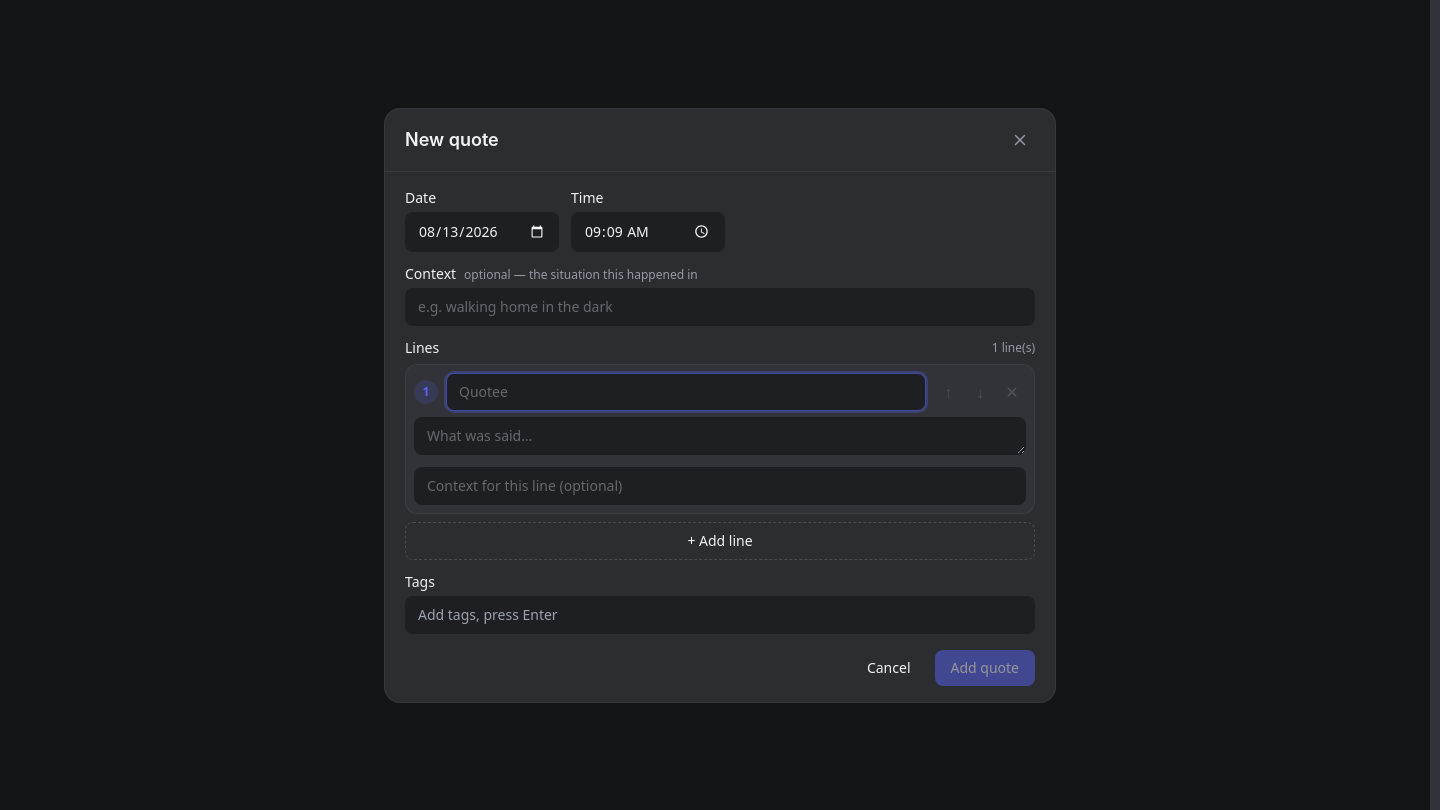
Test case: QuoteModal › surfaces a save failure instead of closing
Type "Jake" into the field with placeholder "Quotee".
click(686, 392); type("Jake")  # box [446, 372, 926, 410]
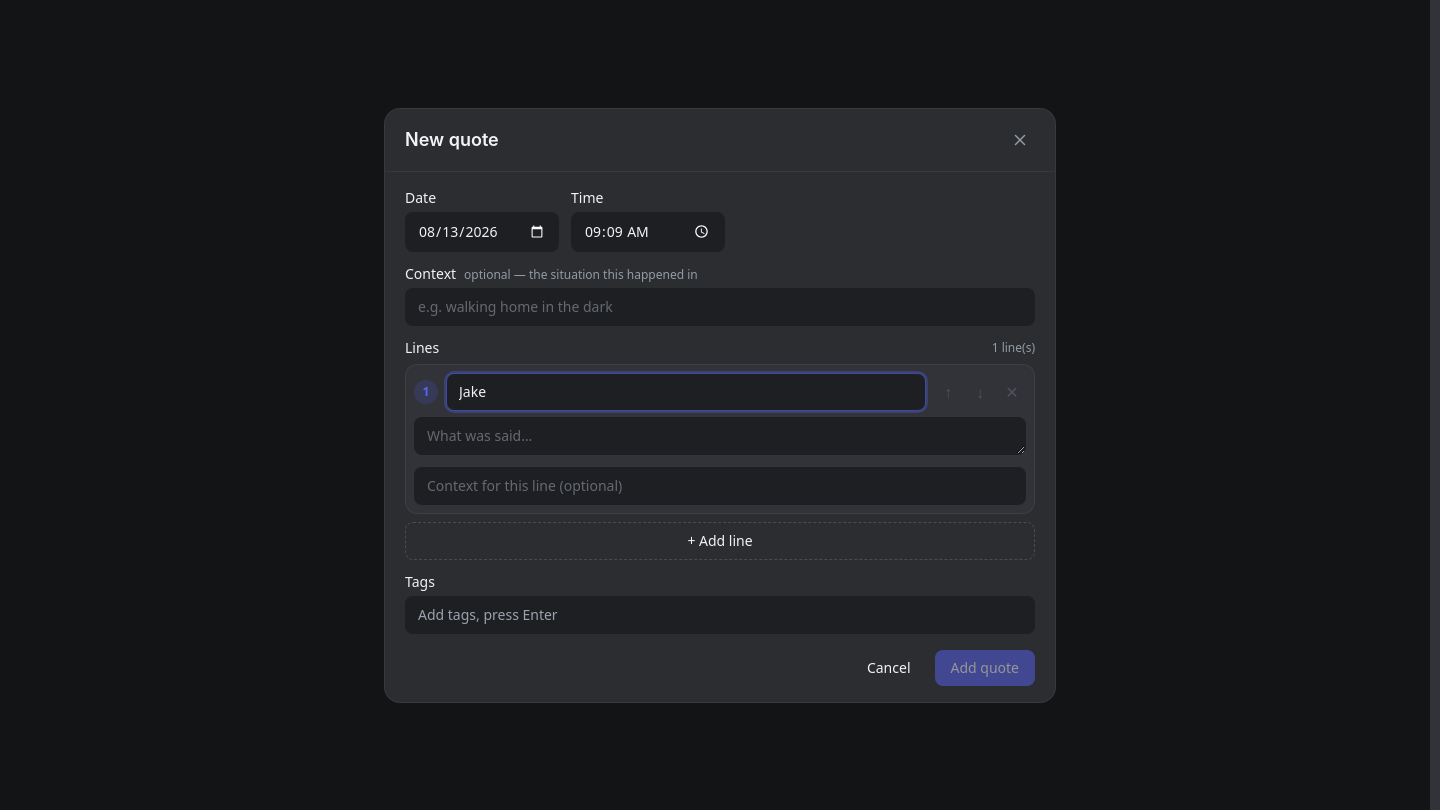
Type "milk a cow" into the text box with placeholder "What was said…".
click(720, 436); type("milk a cow")  # box [414, 416, 1026, 454]
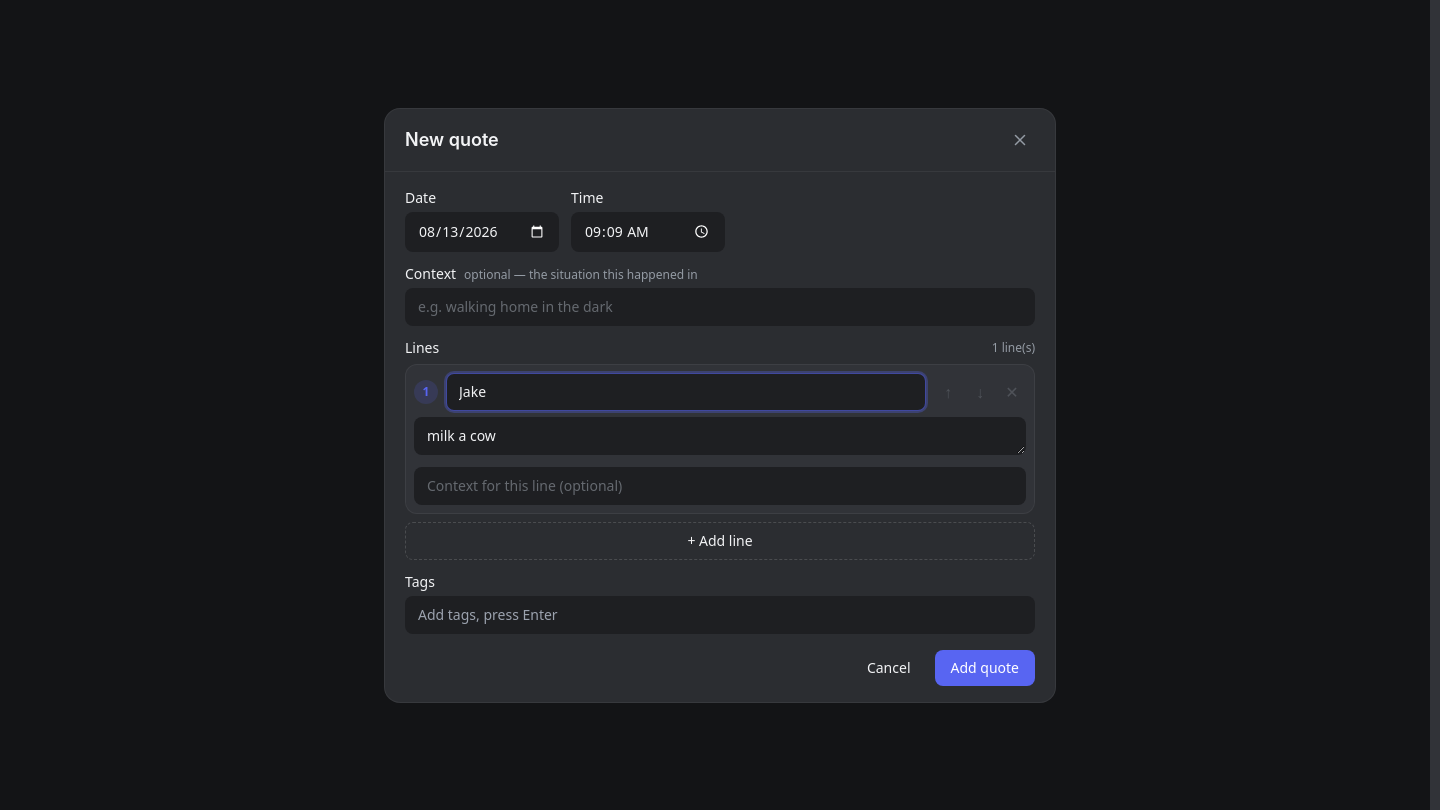
Click the button "Add quote".
click(985, 668)  # box [934, 650, 1035, 686]
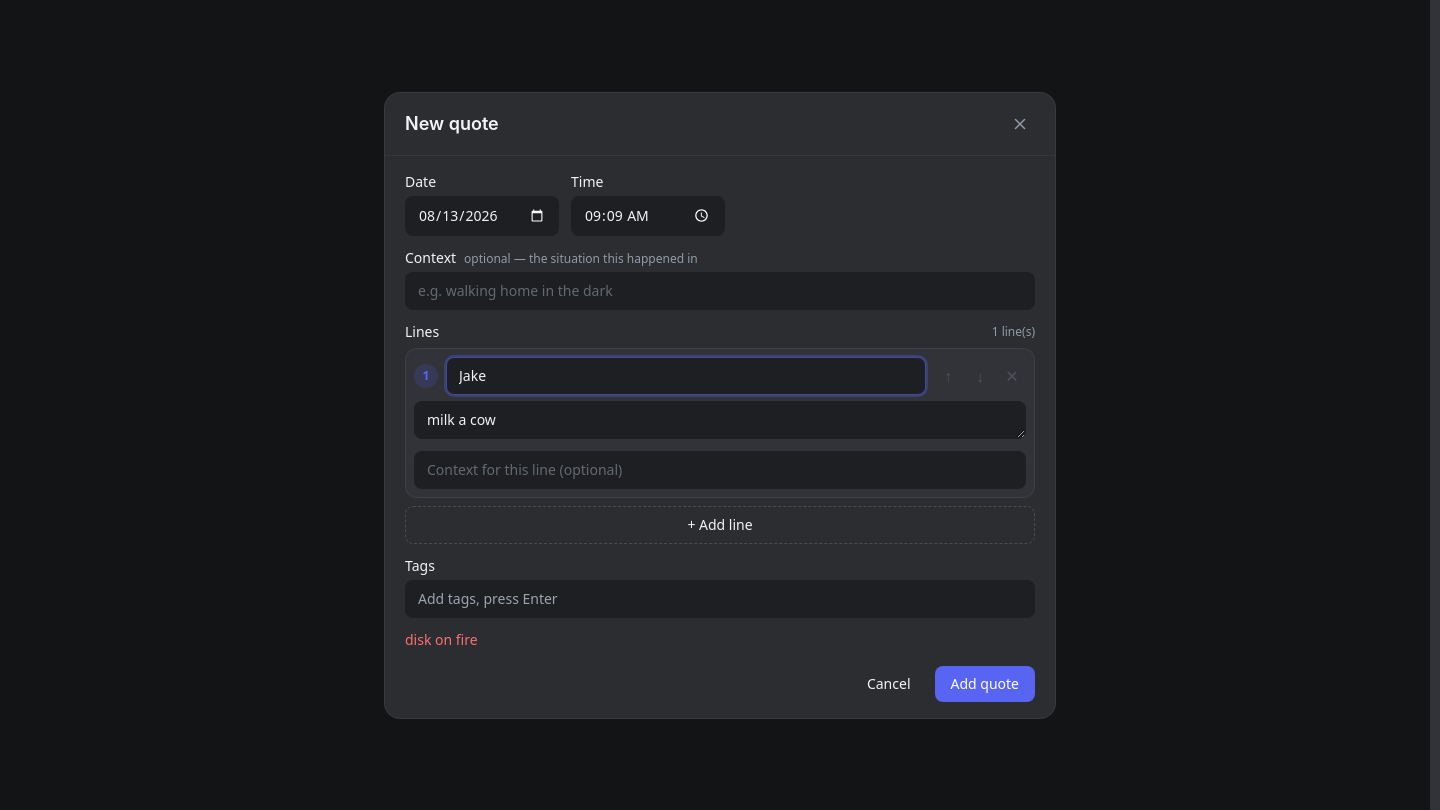
Result: the text "disk on fire" is shown at [405, 630, 478, 648]
